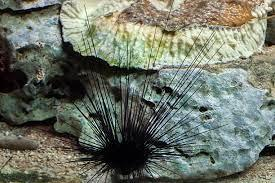urchin: (52, 30, 206, 183)
